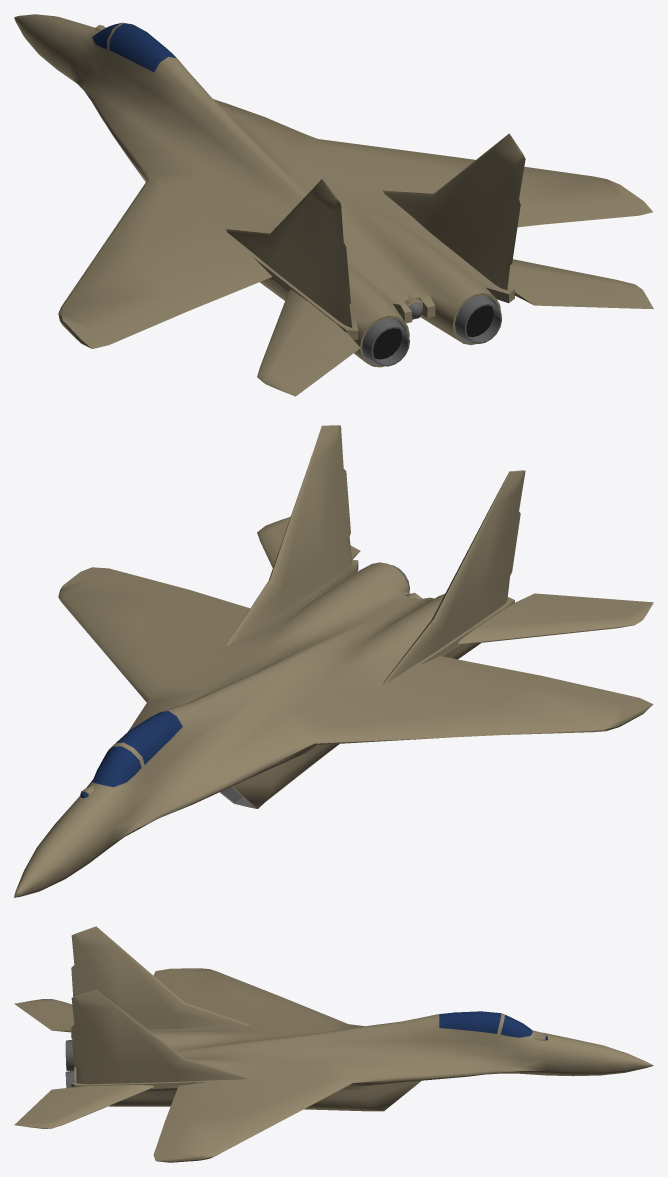
Rendered from MIG29.glb.
The picture shows the model from 3 angles, top to bottom: view 1: azimuth 30°, elevation 25°; view 2: azimuth 150°, elevation 25°; view 3: azimuth 270°, elevation 25°; orthographic projection. The views are drawn at different scales.
Parts seen in each view (by area): view 1: mig29; view 2: mig29; view 3: mig29.
Boxes of the visible parts, box(x1,y1,x2,y2) form: mig29: box(14, 14, 653, 396); mig29: box(14, 425, 653, 897); mig29: box(14, 926, 653, 1162).
Size of the model in its own units: 12.25 by 4.17 by 17.3.
